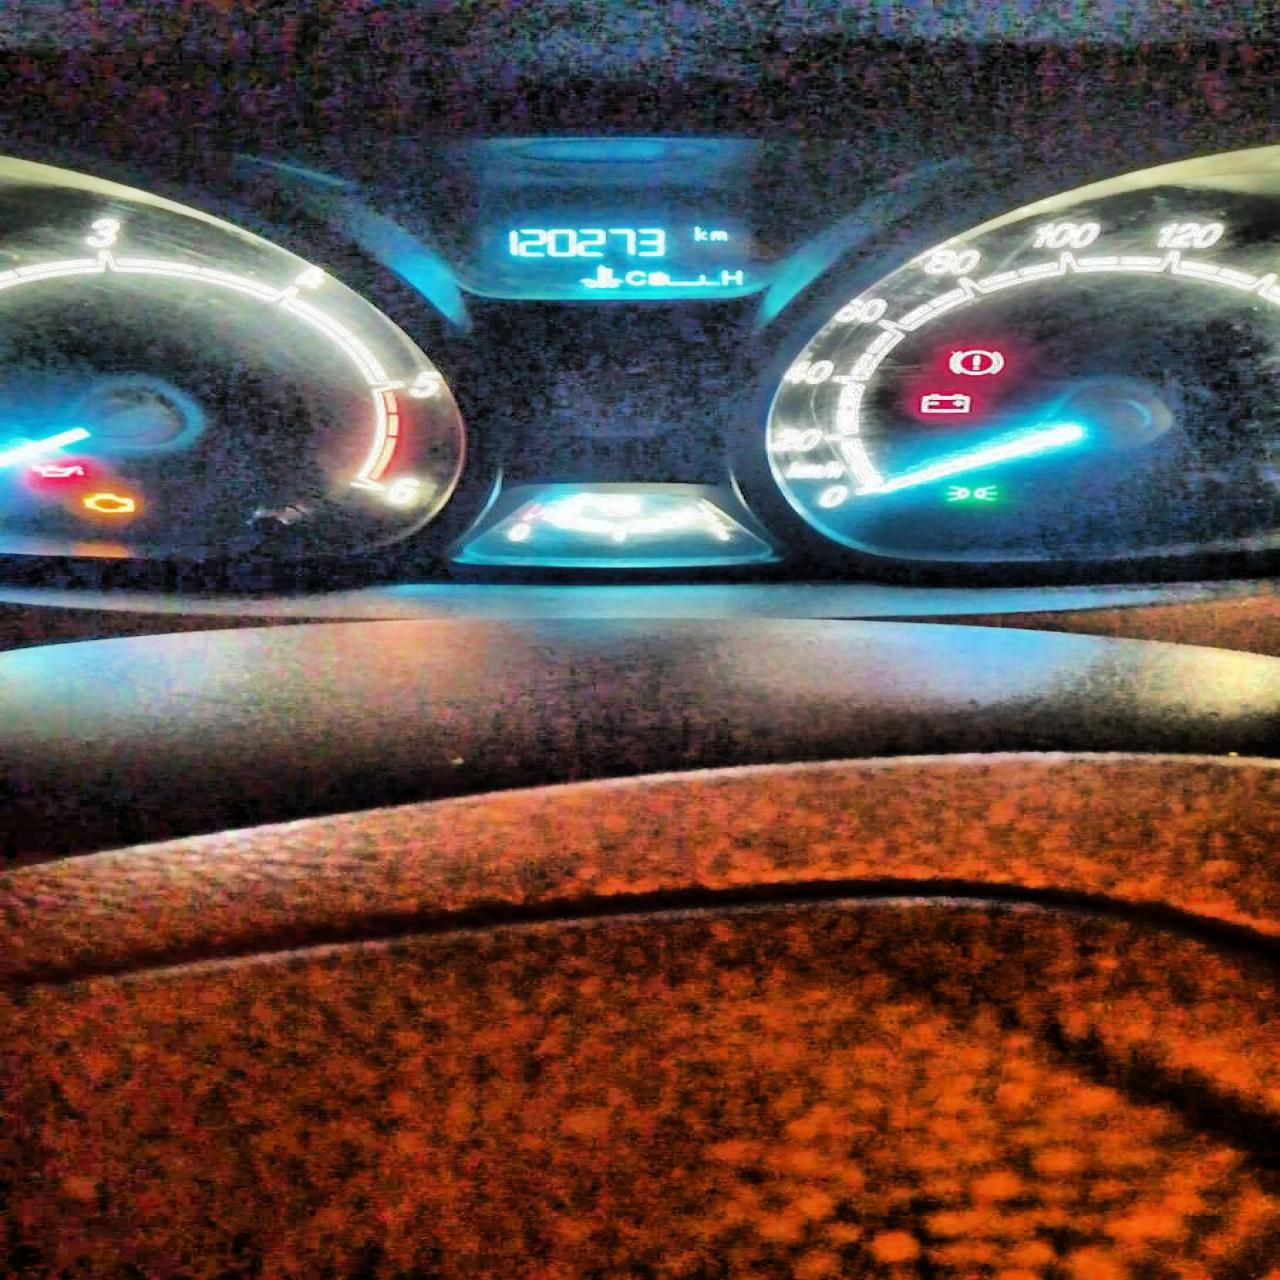0: (545, 229, 574, 258)
1: (504, 227, 517, 259)
2: (517, 226, 545, 258), (576, 226, 602, 259)
3: (635, 226, 665, 257)
7: (607, 226, 634, 258)
X: (719, 266, 748, 288), (622, 268, 646, 287), (707, 229, 733, 241), (692, 224, 707, 241)
odometer: (467, 204, 765, 298)
